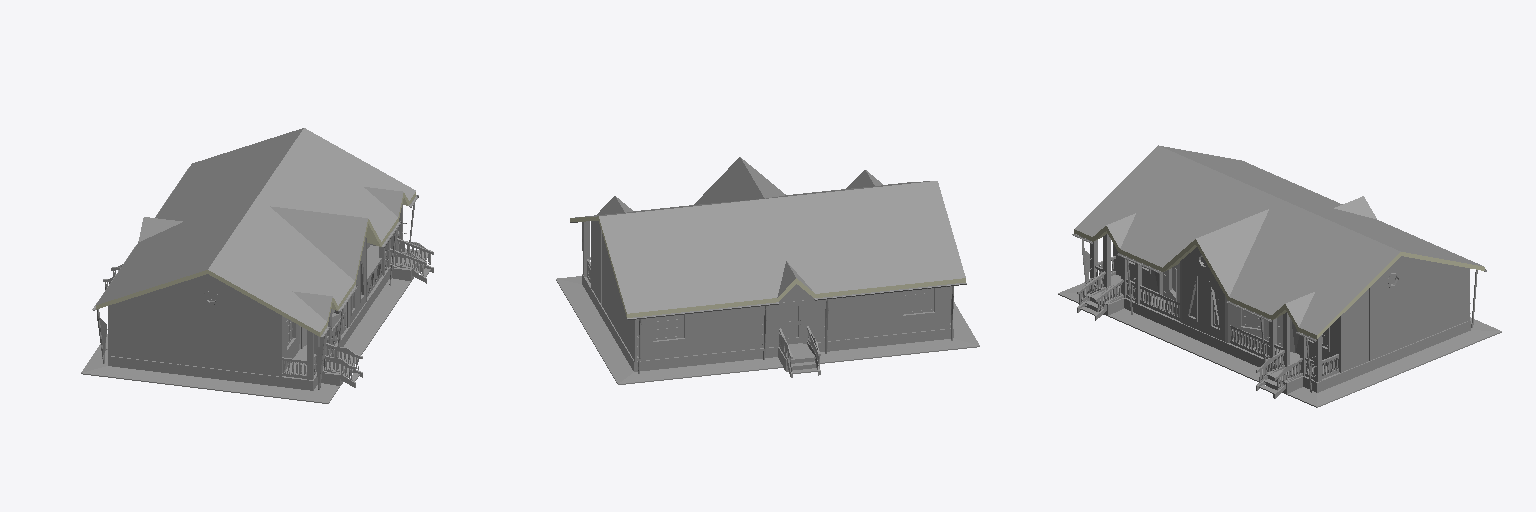
Rendered from house_triangulated.obj.
3 renders of one model, left to right at view 1: azimuth 30°, elevation 25°; view 2: azimuth 150°, elevation 25°; view 3: azimuth 270°, elevation 25°, orthographic.
Visible parts, largest first — view 1: House_Layer_????; view 2: House_Layer_????; view 3: House_Layer_????.
Part boxes in pixels (x1,y1,x2,y2): House_Layer_????: (81, 128, 433, 403); House_Layer_????: (556, 157, 979, 384); House_Layer_????: (1058, 145, 1501, 407).
Size of the model in its own units: 34.79 by 9.84 by 34.57.